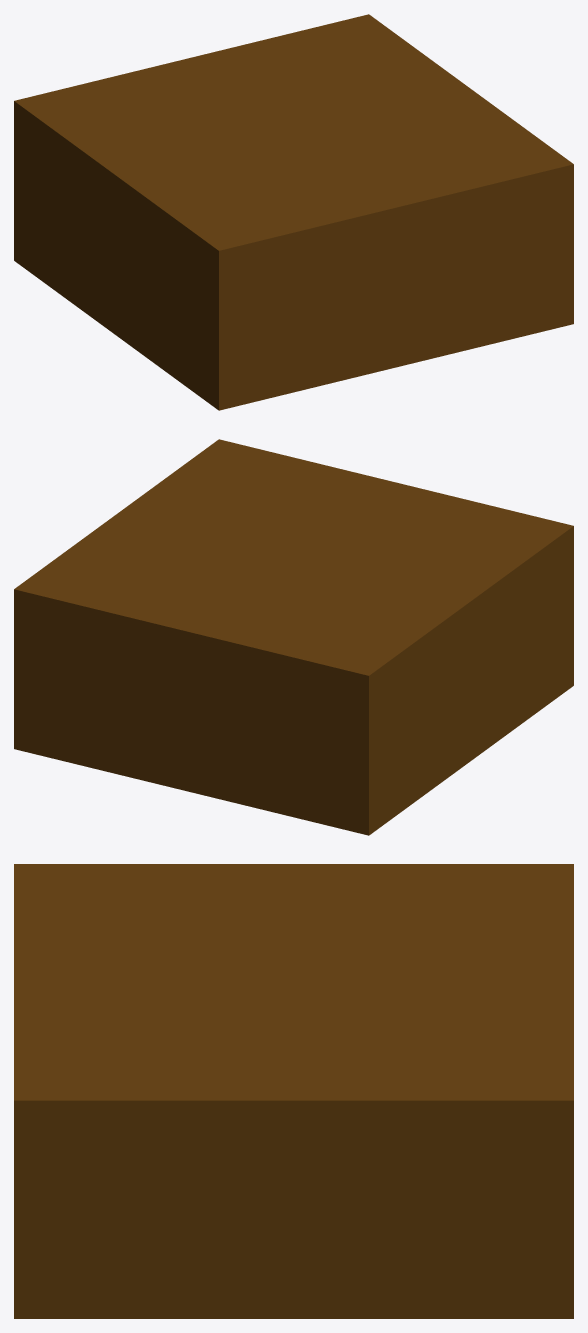
File: interiorCasa.fbx
3 views of the same model, one above another, from view 1: azimuth 30°, elevation 25°; view 2: azimuth 150°, elevation 25°; view 3: azimuth 270°, elevation 25° (orthographic). The views are drawn at different scales.
Visible parts, largest first — view 1: casa; view 2: casa; view 3: casa.
Boxes of the visible parts, box(x1,y1,x2,y2) form: casa: box(14, 14, 573, 410); casa: box(14, 439, 573, 835); casa: box(14, 864, 573, 1318).
Bounding box in the file's own units: 2500 × 1075 × 2500.
